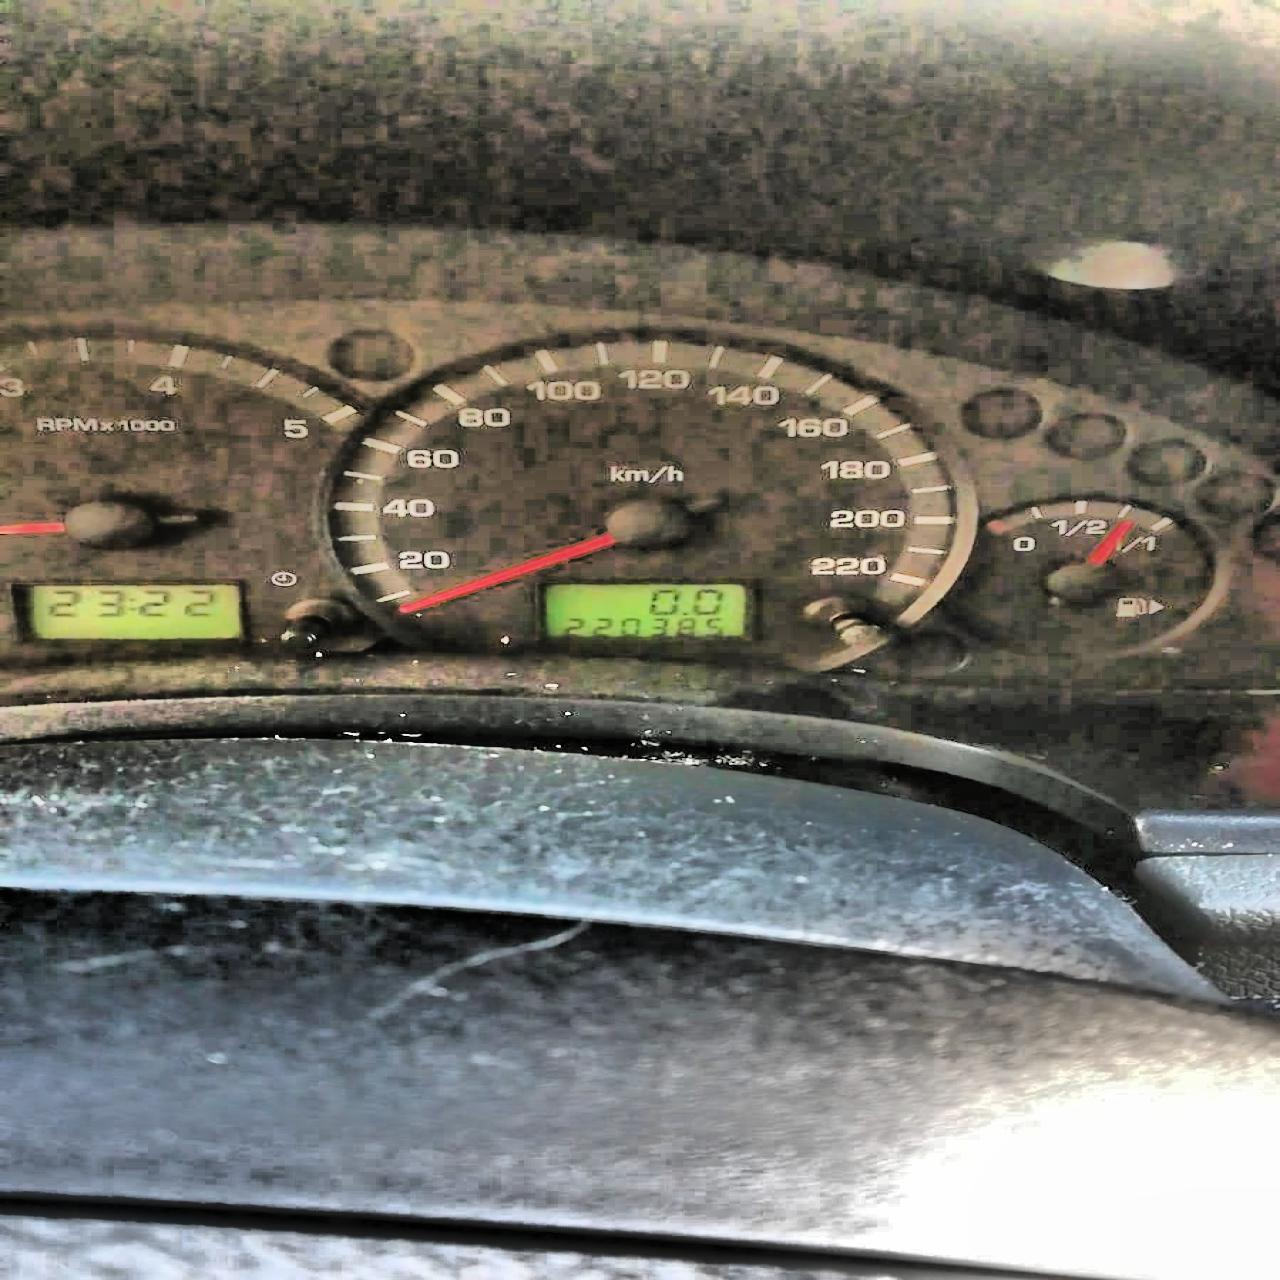0: (690, 588, 723, 614), (648, 588, 680, 614), (619, 618, 641, 635)
2: (563, 618, 584, 636), (591, 618, 612, 635)
3: (649, 618, 669, 635)
5: (703, 617, 723, 635)
8: (675, 617, 696, 635)
odometer: (529, 577, 761, 644)
